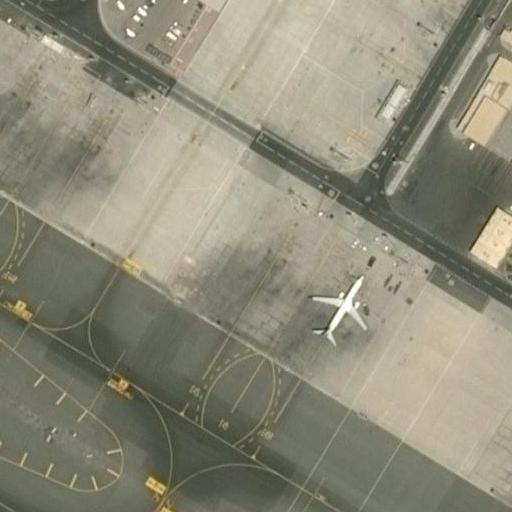Aircraft: (303, 273, 370, 345)
